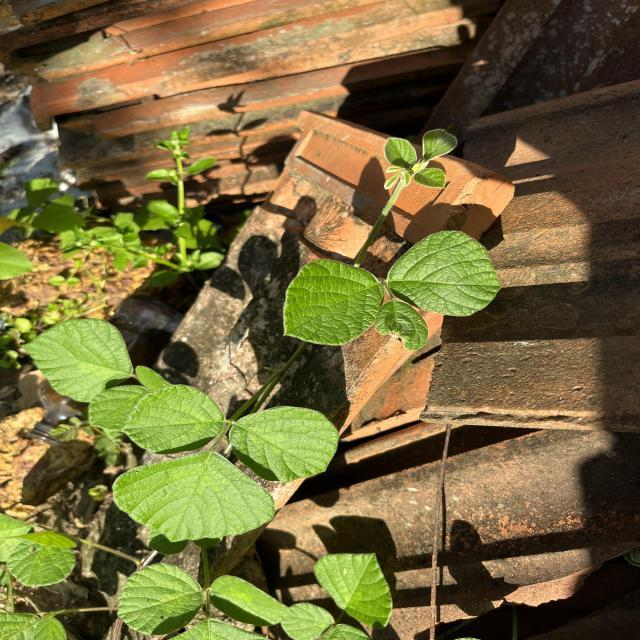Pseudarthria viscida: (110, 383, 342, 544), (278, 229, 504, 353)
